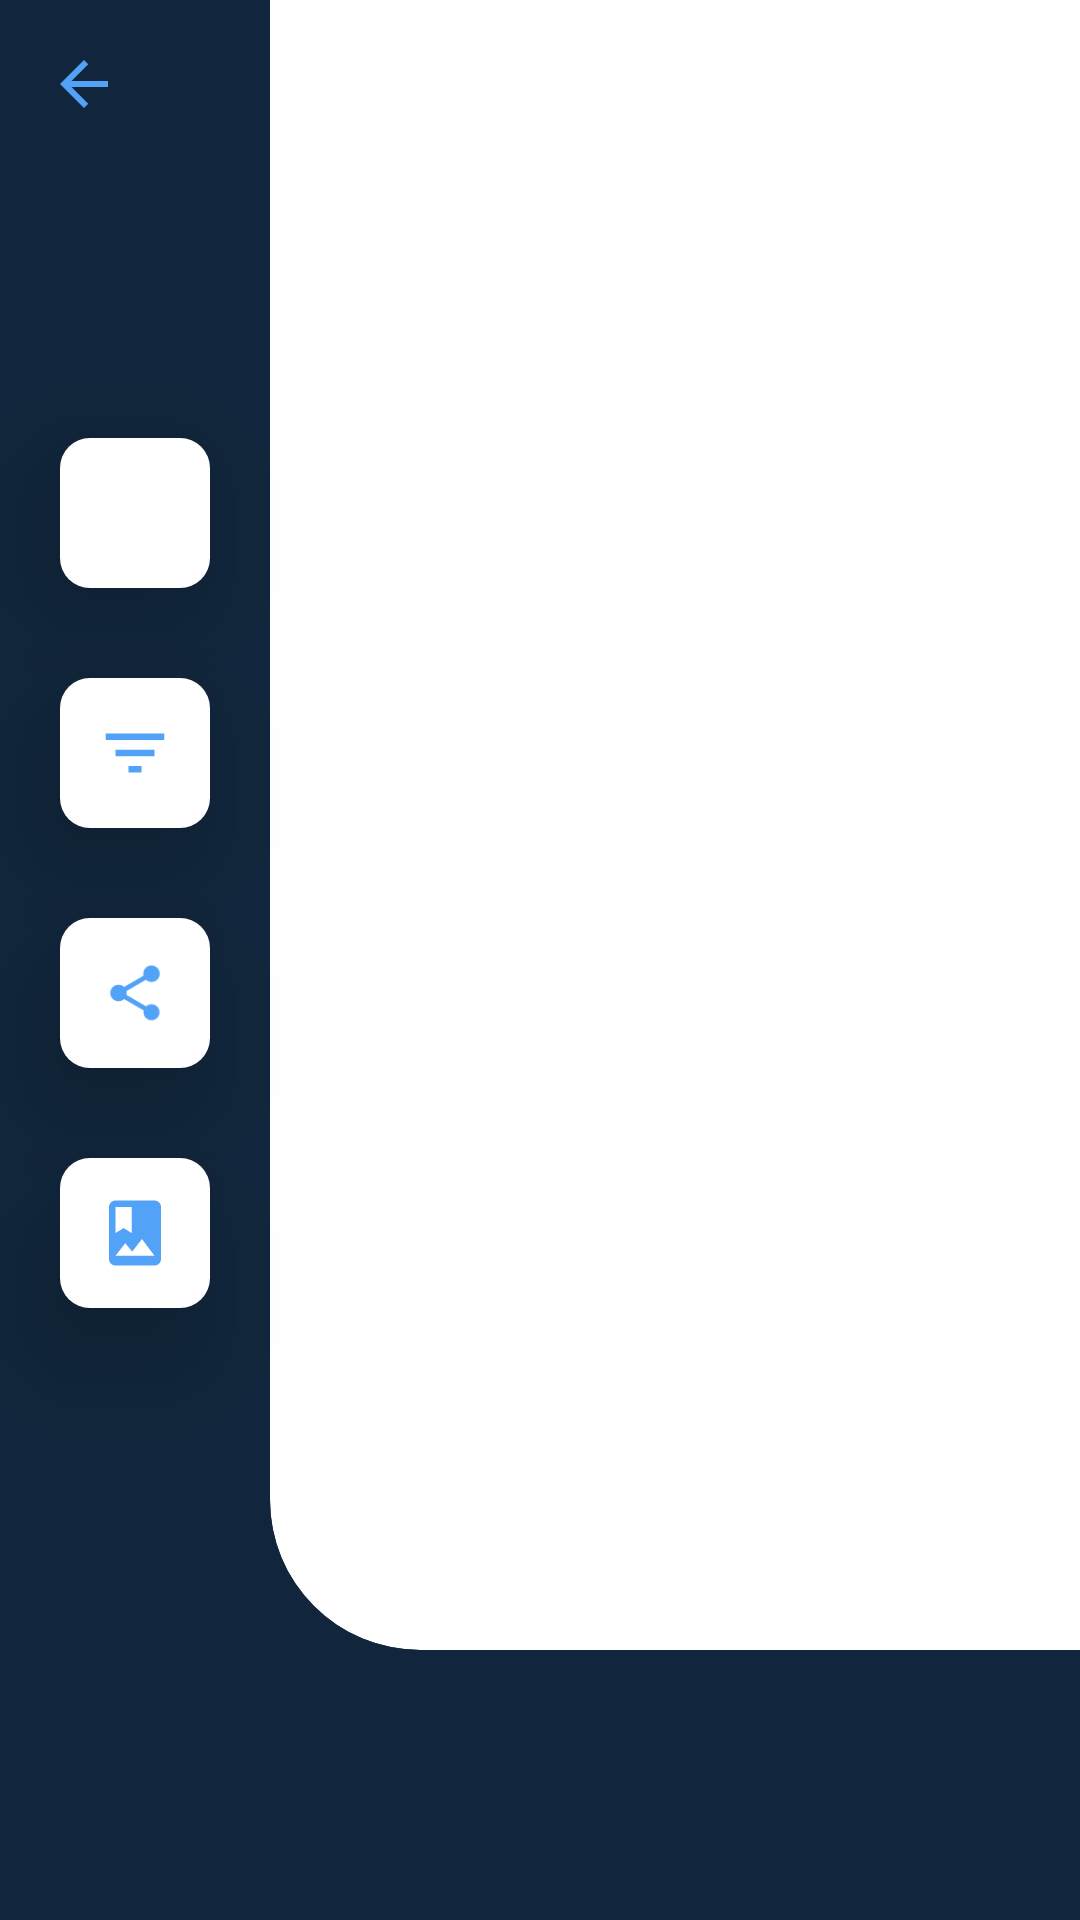

Icon bounding boxes for this 1080×1920 phone screenshot, format (x1, y1, x2, y2):
photo: (60, 1158, 210, 1308)
share: (60, 918, 210, 1068)
